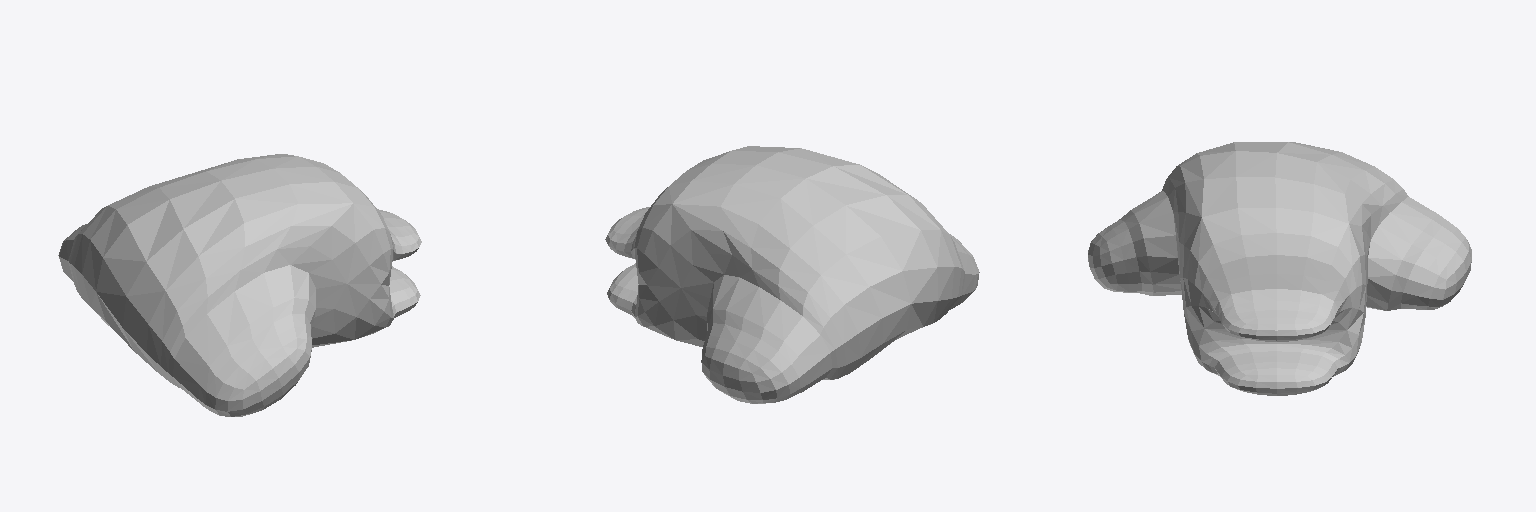
The model's file is bird3.obj.
3 views of the same model, side by side, from view 1: azimuth 30°, elevation 25°; view 2: azimuth 150°, elevation 25°; view 3: azimuth 270°, elevation 25° (orthographic).
Parts seen in each view (by area): view 1: Cube; view 2: Cube; view 3: Cube.
Boxes of the visible parts, x1,y1,x2,y2 form: Cube: [58, 154, 421, 416]; Cube: [605, 146, 979, 403]; Cube: [1088, 142, 1471, 395].
Size of the model in its own units: 3.54 by 1.91 by 3.89.